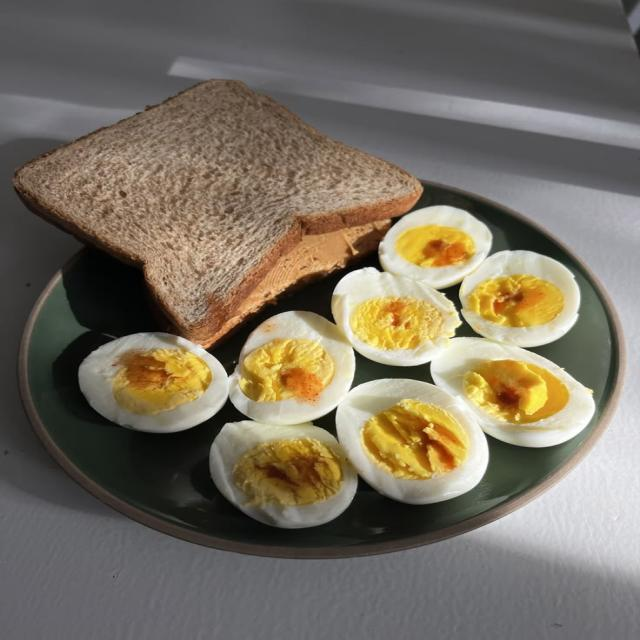egg boiled: (336, 379, 488, 504), (432, 338, 594, 447), (209, 421, 357, 528), (79, 333, 227, 432), (230, 311, 354, 424), (332, 268, 460, 365), (460, 250, 579, 347), (379, 205, 492, 289)
sliced bread: (15, 80, 421, 342), (183, 221, 390, 346)
